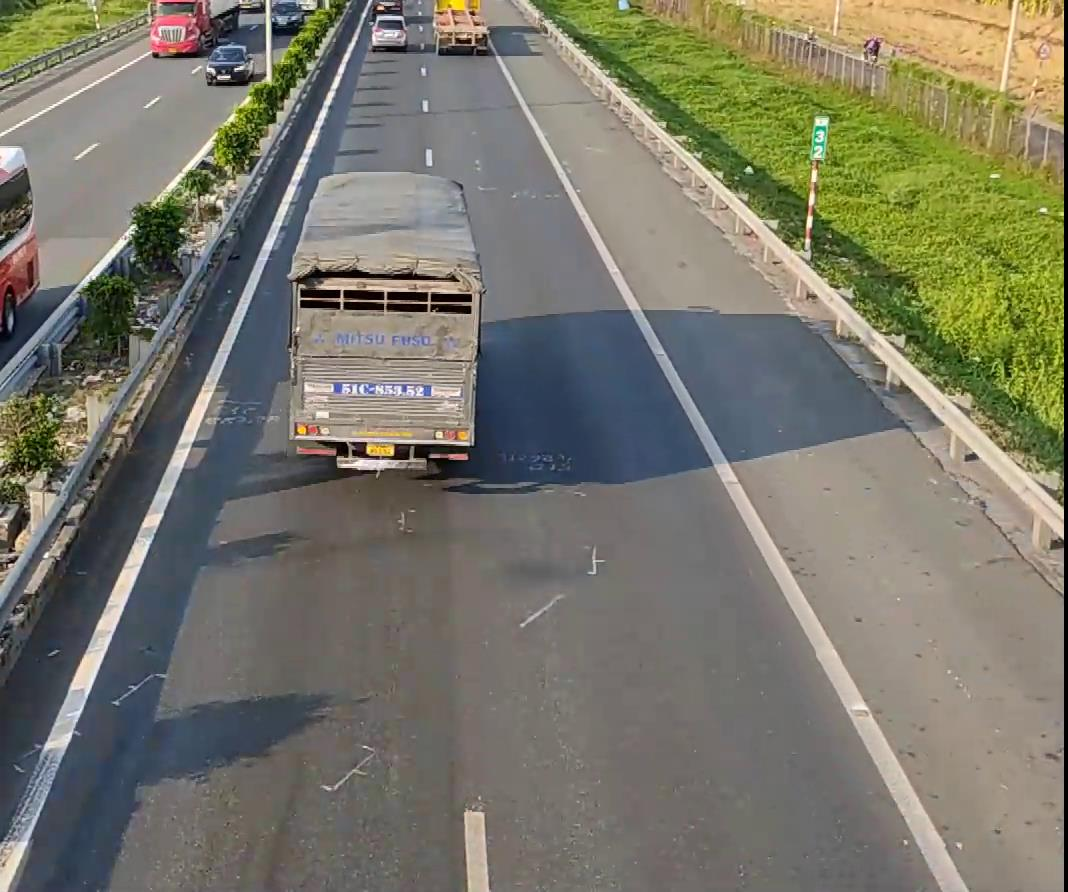bus: (0, 141, 41, 396)
truck: (278, 169, 486, 479)
